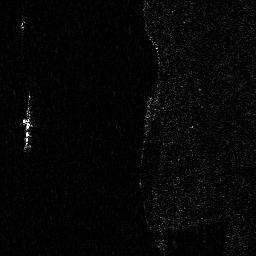ship: (21, 107, 32, 150)
